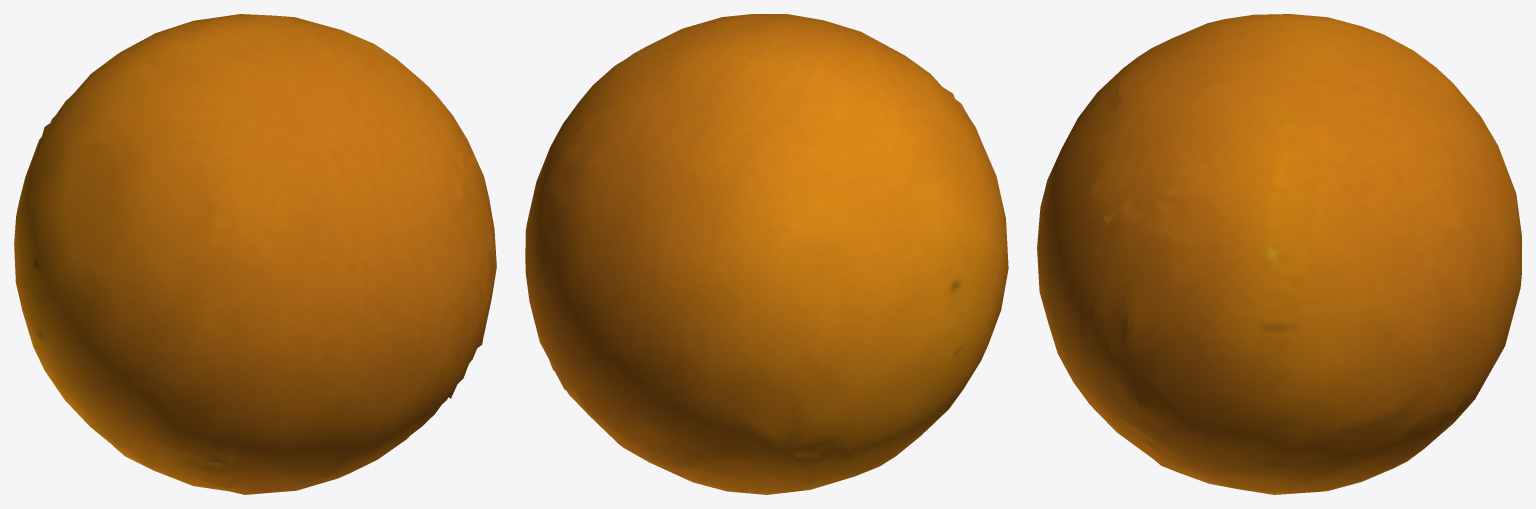
File: orange.glb
The picture shows the model from 3 angles, left to right: view 1: azimuth 30°, elevation 25°; view 2: azimuth 150°, elevation 25°; view 3: azimuth 270°, elevation 25°; orthographic projection.
Visible parts, largest first — view 1: part_0_body.003_3.001; view 2: part_0_body.003_3.001; view 3: part_0_body.003_3.001.
Boxes of the visible parts, x1,y1,x2,y2 form: part_0_body.003_3.001: [14, 14, 496, 494]; part_0_body.003_3.001: [525, 14, 1008, 494]; part_0_body.003_3.001: [1037, 14, 1521, 494].
Bounding box in the file's own units: 0.1169 × 0.1162 × 0.1174.
Materials: 1 (1 with a texture image).
